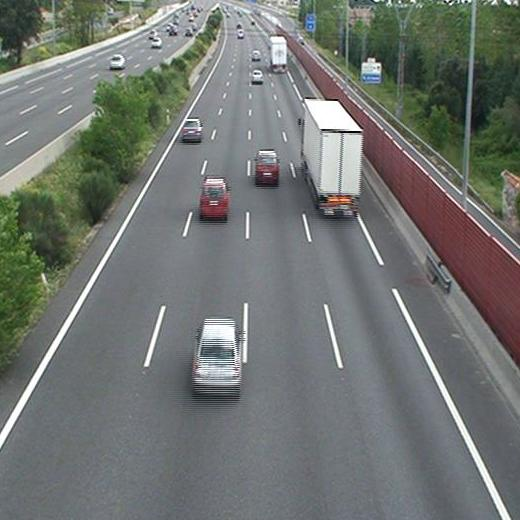car: (192, 319, 240, 392), (200, 177, 228, 217), (254, 150, 279, 183), (182, 119, 202, 142), (250, 71, 264, 83), (250, 50, 261, 60)
truck: (303, 98, 361, 216), (269, 37, 287, 71)
